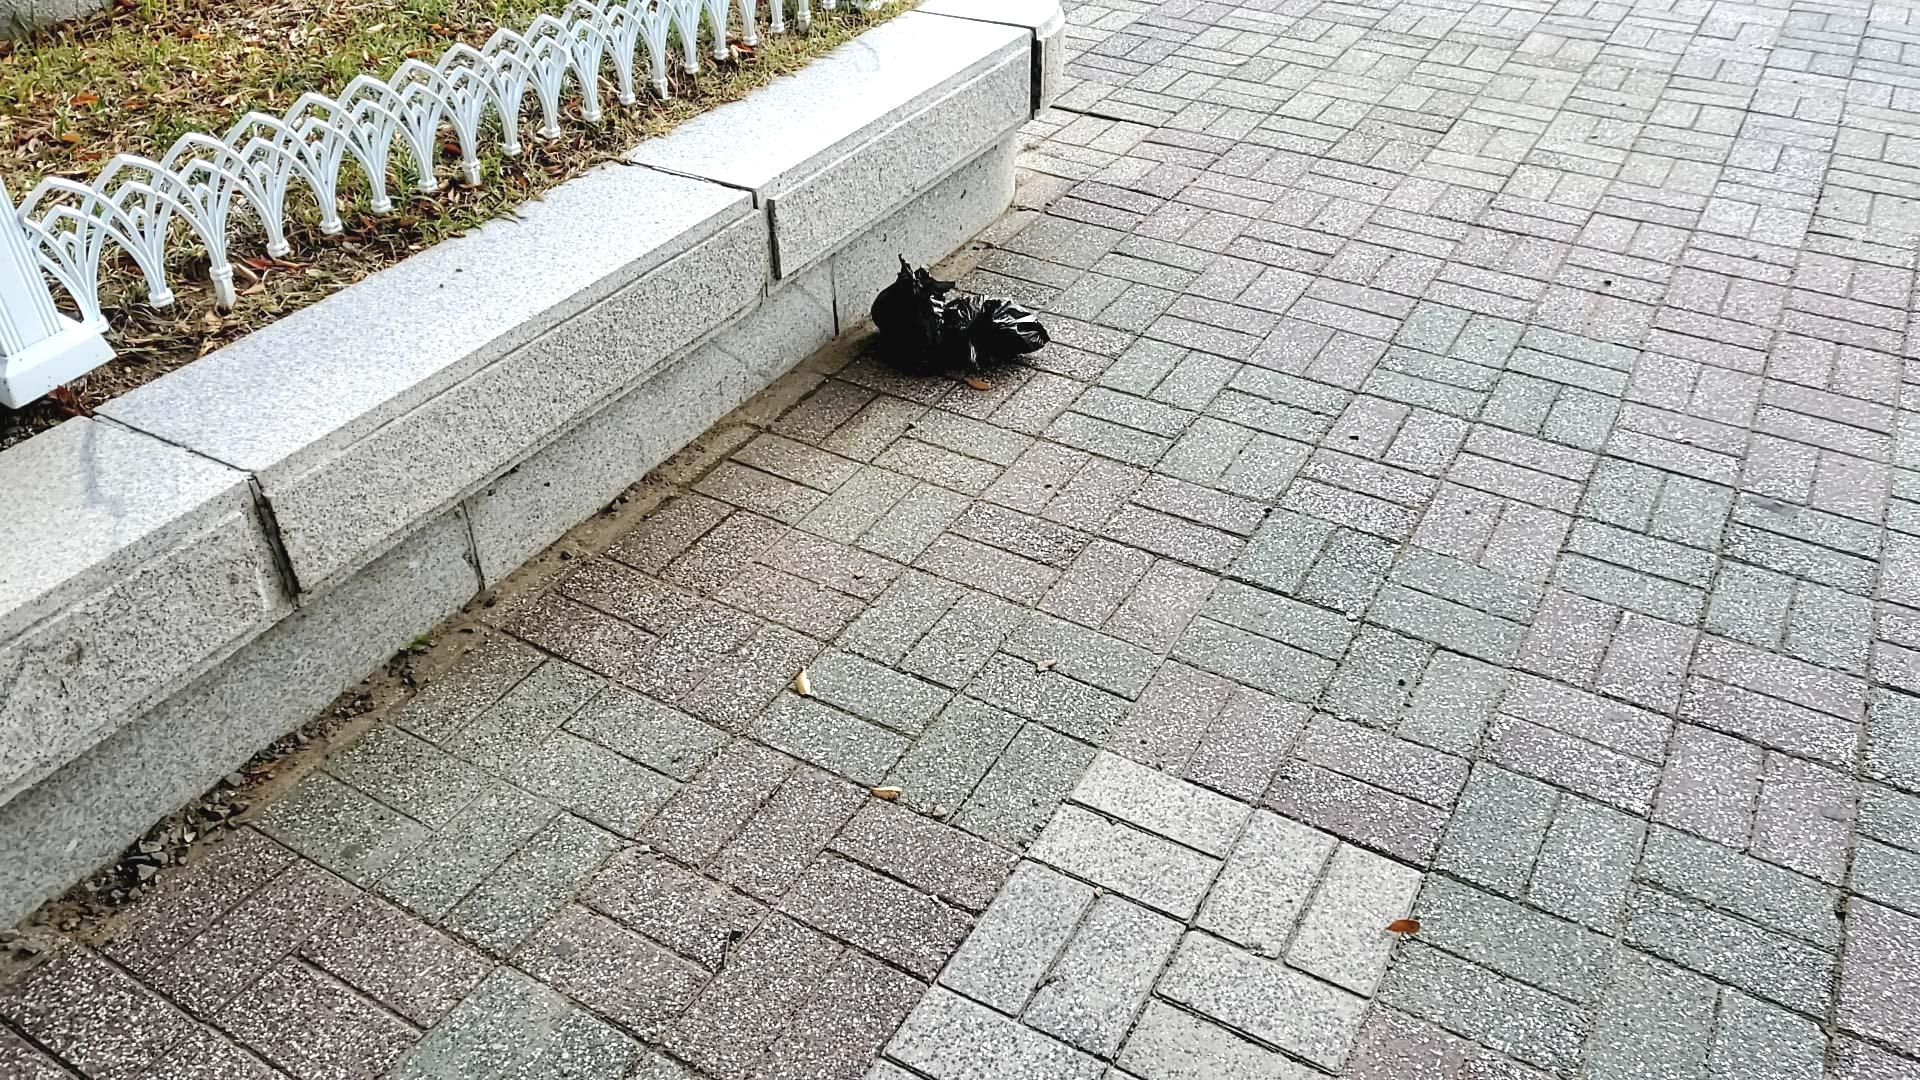black_bag: (860, 253, 1052, 382)
